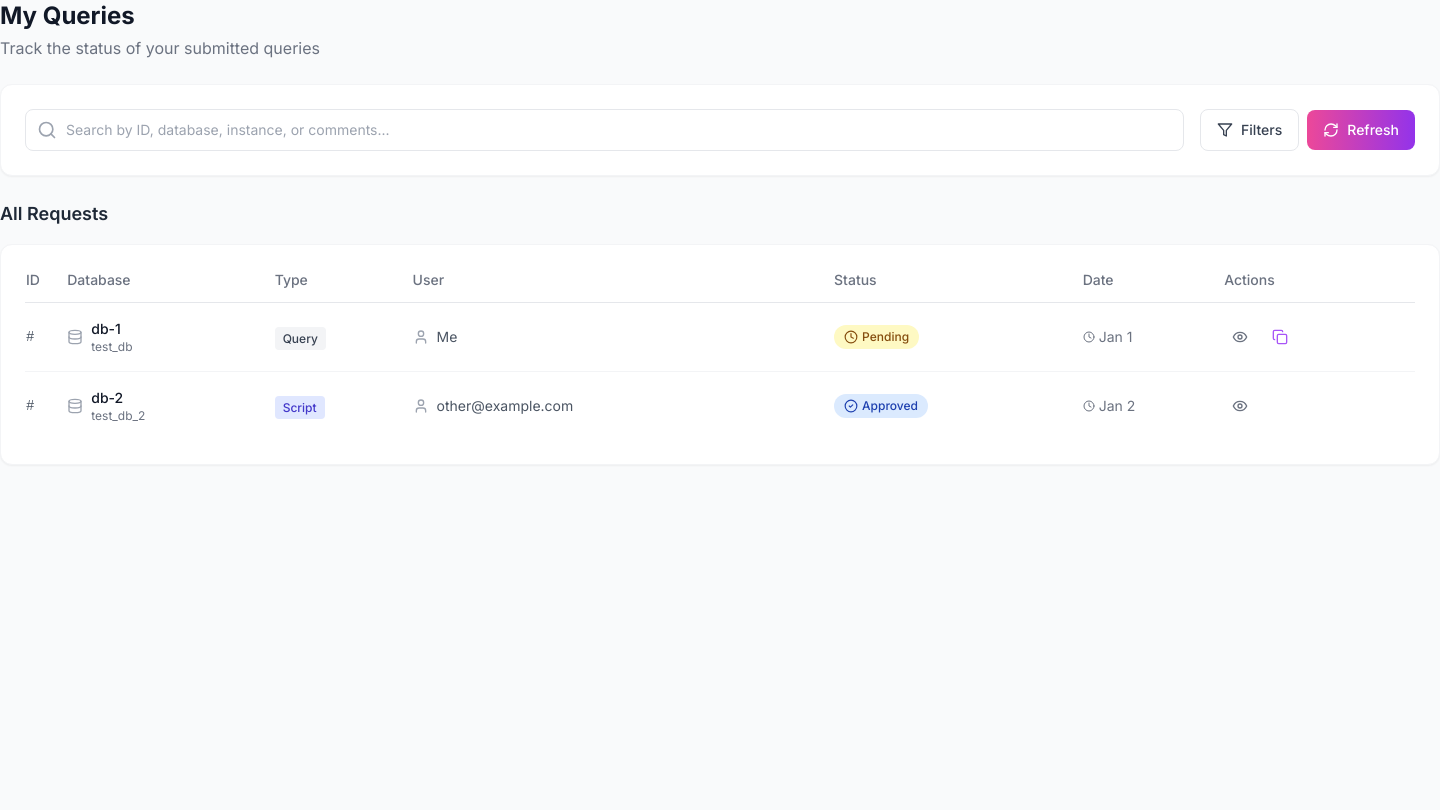
Scenario: MyQueriesPage › Actions & Modal › should display details in modal correctly
The image size is (1440, 810).
Click the button titled "View Details" in the row of "db-1" at {"x": 1240, "y": 337}, box [1224, 321, 1256, 353]
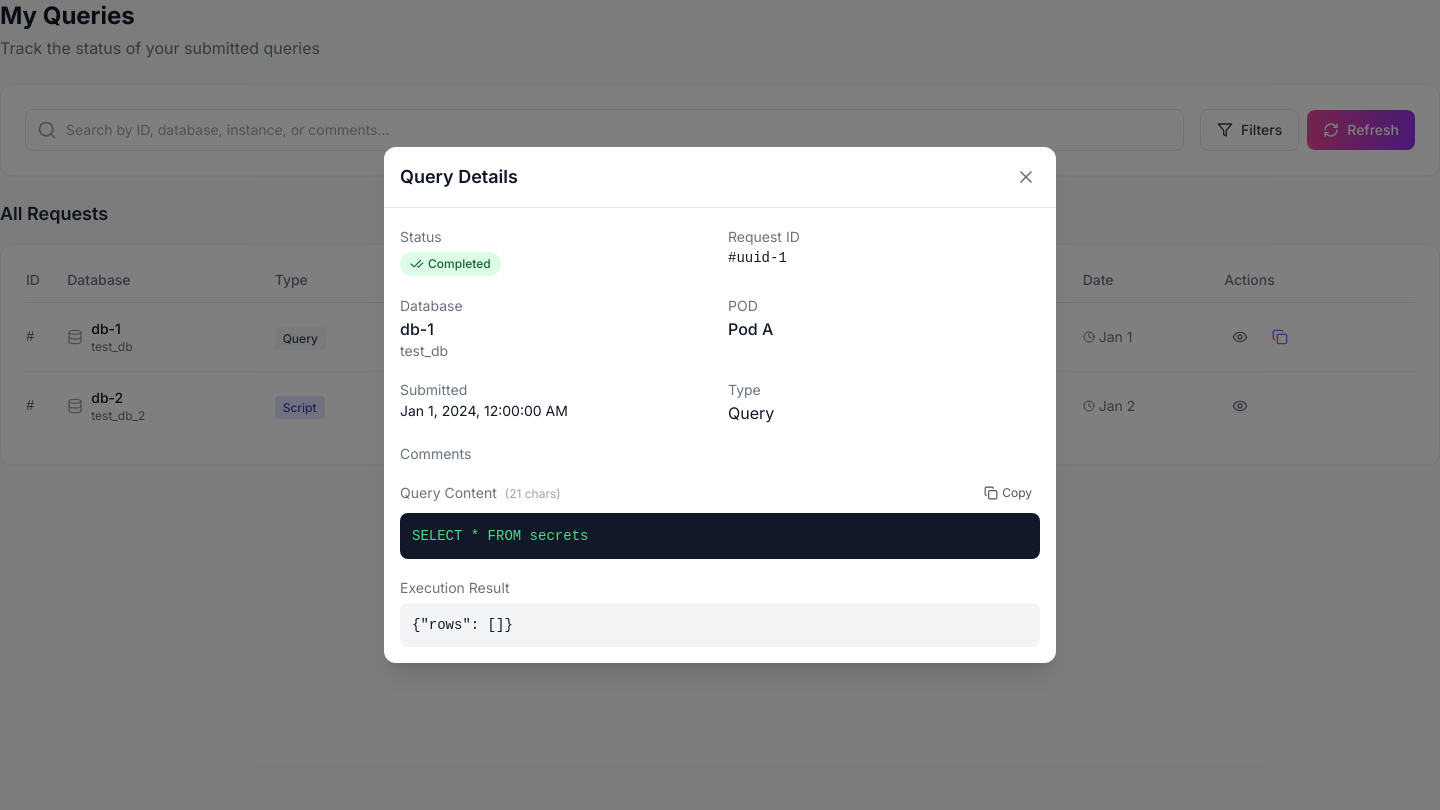
Expected: the text "Query Details" is shown, [400, 163, 518, 191]
Expected: the text "SELECT * FROM secrets" is shown, [400, 513, 1040, 559]
Expected: the text "Execution Result" is shown, [400, 579, 510, 596]
